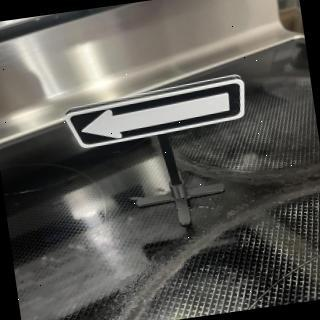sign_oneway_left: (63, 75, 252, 152)
